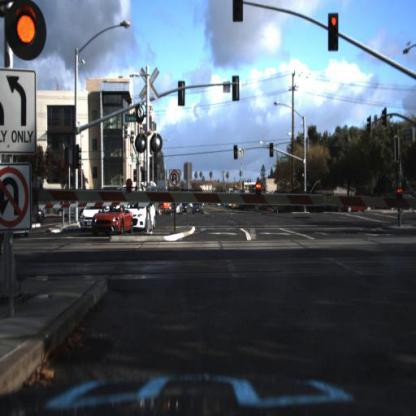car: (90, 203, 134, 236), (51, 197, 94, 224), (126, 199, 157, 231), (78, 198, 104, 231), (342, 194, 378, 217), (30, 210, 45, 233), (168, 201, 182, 220), (31, 202, 49, 215), (332, 200, 345, 218), (193, 199, 204, 215), (168, 205, 185, 213)
pedestrian: (396, 185, 406, 227)
trafficLight: (324, 9, 345, 58), (232, 138, 243, 164), (234, 2, 246, 25)
trafficLight-Red: (1, 1, 70, 67), (12, 3, 44, 55), (329, 14, 341, 52), (234, 144, 239, 162), (271, 142, 275, 158)
